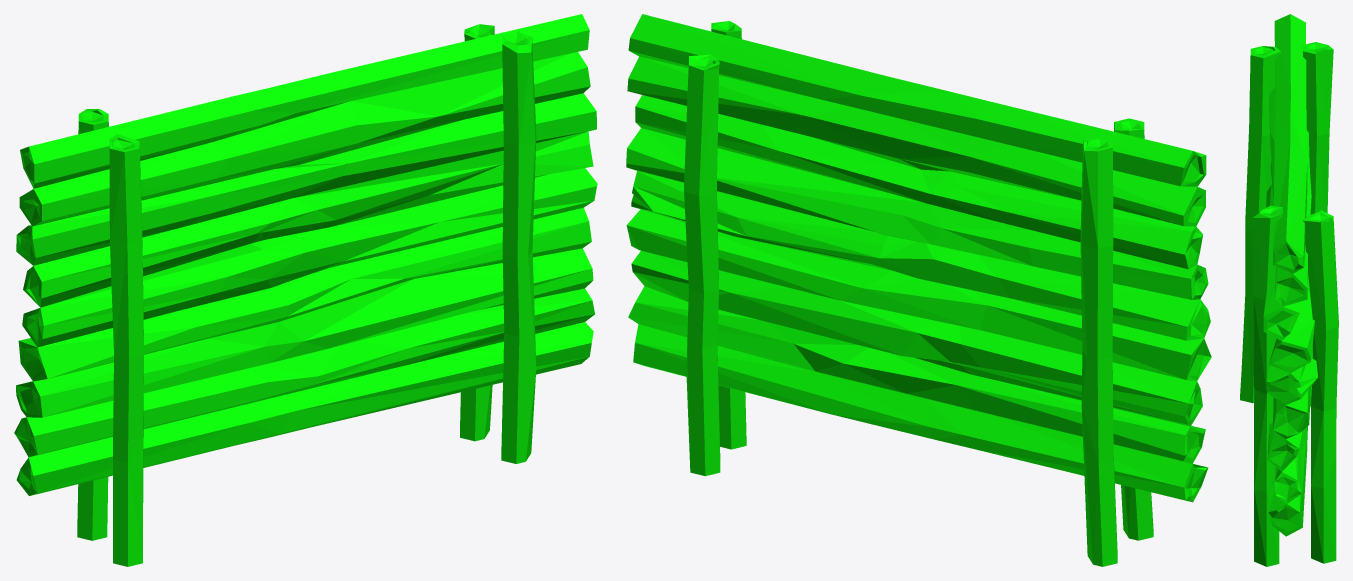
File: SM_Wall_Trench_5m.fbx
3 views of the same model, side by side, from view 1: azimuth 30°, elevation 25°; view 2: azimuth 150°, elevation 25°; view 3: azimuth 270°, elevation 25° (orthographic). The views are drawn at different scales.
Visible parts, largest first — view 1: wall-trench-5m; view 2: wall-trench-5m; view 3: wall-trench-5m.
Part boxes in pixels (x1,y1,x2,y2): wall-trench-5m: [14, 14, 597, 566]; wall-trench-5m: [626, 14, 1211, 566]; wall-trench-5m: [1240, 14, 1338, 566].
Bounding box in the file's own units: 5.05 × 3.58 × 0.9072.
